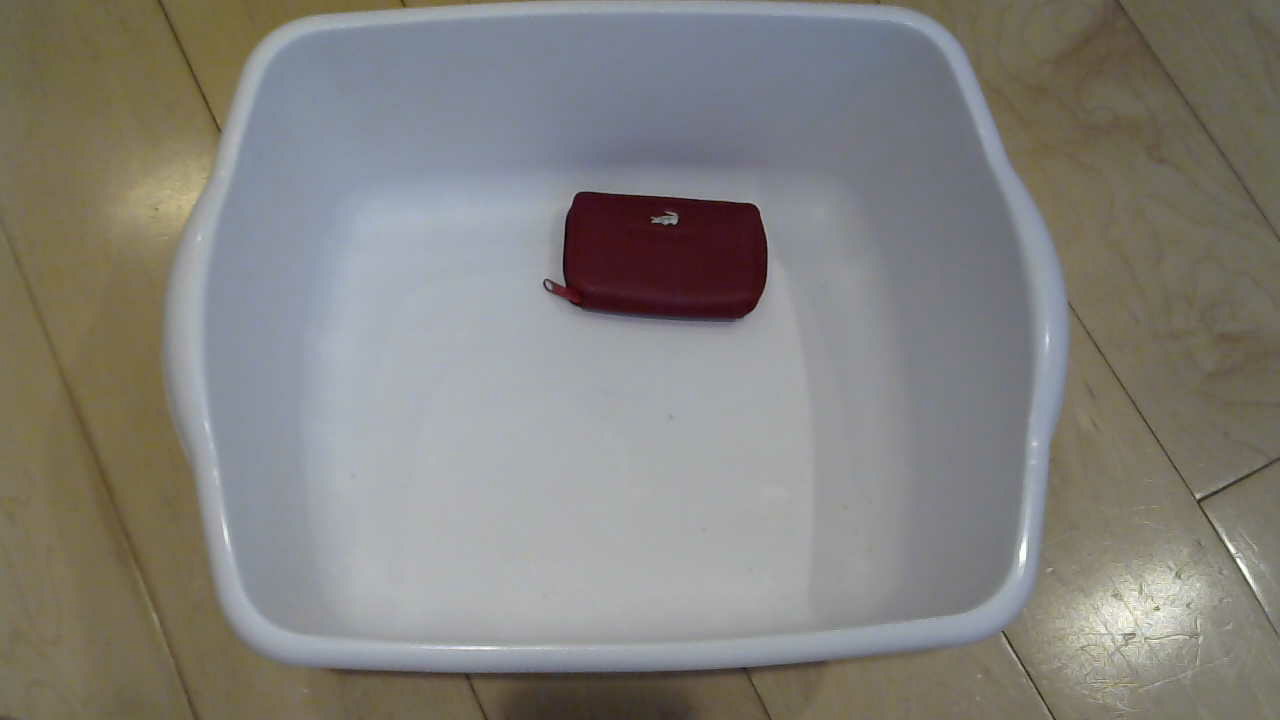wallet: (545, 186, 790, 355)
